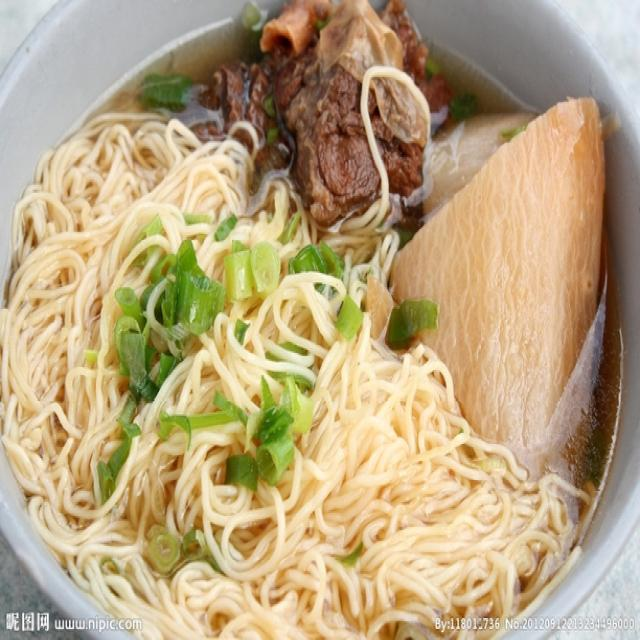面条主食: (25, 35, 610, 602)
